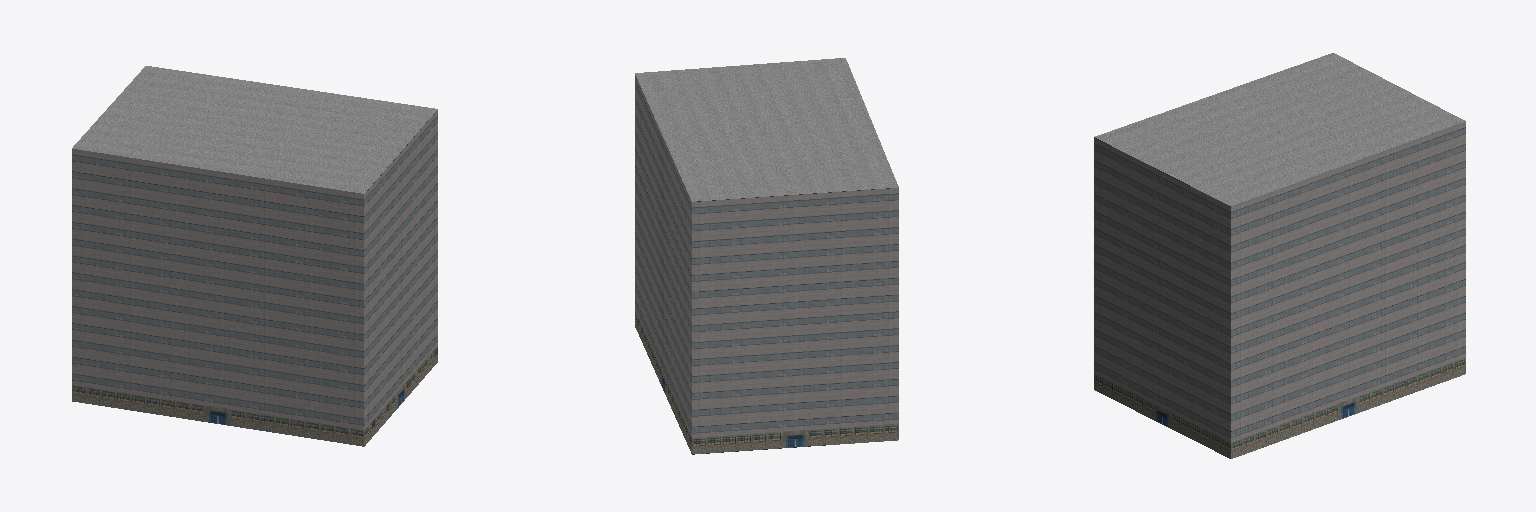
The picture shows the model from 3 angles: view 1: azimuth 30°, elevation 25°; view 2: azimuth 150°, elevation 25°; view 3: azimuth 270°, elevation 25°; orthographic projection.
Visible parts, largest first — view 1: BuildingMaster_[number redacted]_0, BuildingMaster_[number redacted]_1; view 2: BuildingMaster_[number redacted]_0, BuildingMaster_[number redacted]_1; view 3: BuildingMaster_[number redacted]_0, BuildingMaster_[number redacted]_1.
Part boxes in pixels (left/top/right/bottom): BuildingMaster_[number redacted]_0: left=72, top=110, right=437, bottom=446; BuildingMaster_[number redacted]_1: left=72, top=66, right=437, bottom=193; BuildingMaster_[number redacted]_0: left=635, top=75, right=898, bottom=454; BuildingMaster_[number redacted]_1: left=635, top=58, right=898, bottom=201; BuildingMaster_[number redacted]_0: left=1094, top=121, right=1465, bottom=458; BuildingMaster_[number redacted]_1: left=1095, top=53, right=1464, bottom=205.
Bounding box in the file's own units: 68.54 × 52.5 × 70.06.
2 materials, 2 textured.